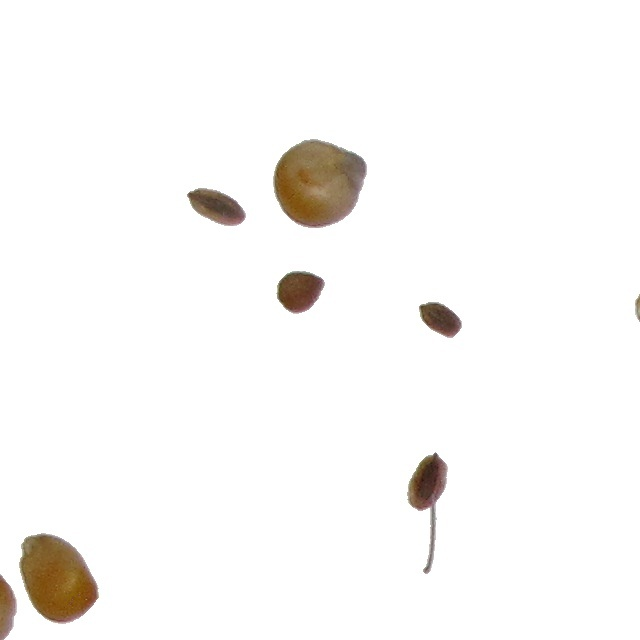buckwheat: (406, 451, 446, 513), (186, 187, 247, 227), (275, 270, 326, 315)
mais: (272, 138, 368, 229), (18, 532, 100, 625)
other: (418, 301, 463, 339), (634, 263, 640, 325)
